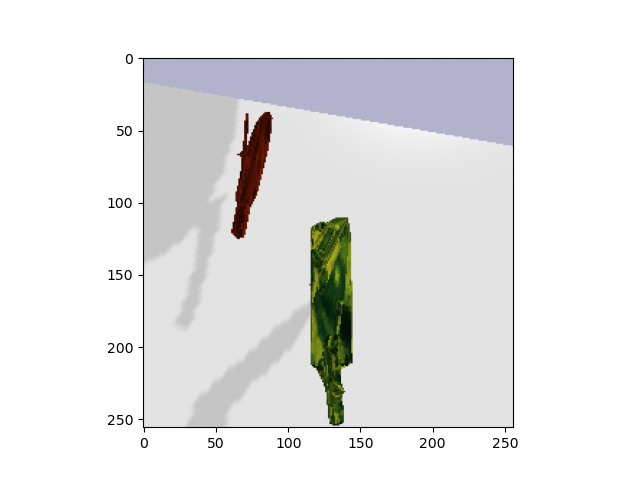v249b387_107: (229, 108, 283, 245)
v249b387_108: (300, 213, 370, 429)
